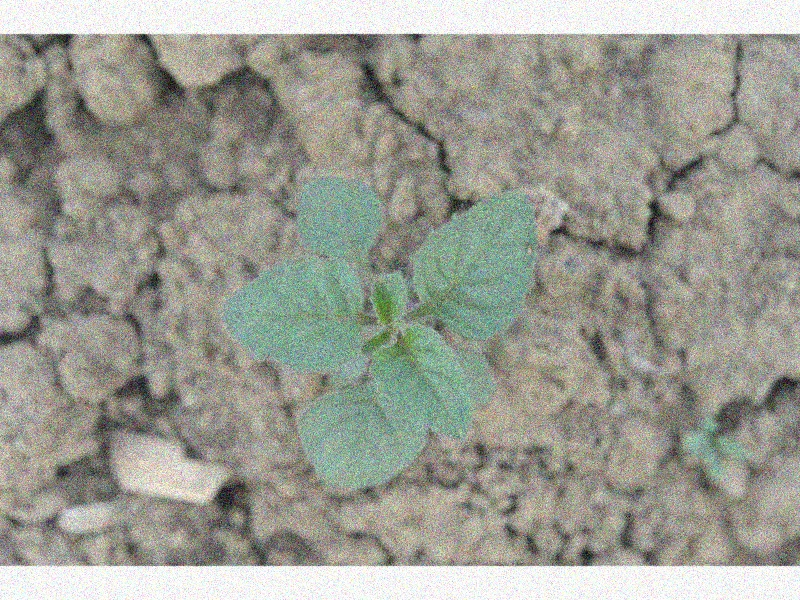nightshade: (222, 176, 537, 487)
